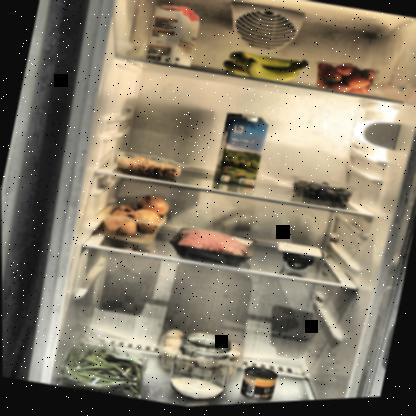banana: (220, 46, 310, 92)
blueberries: (285, 173, 359, 213)
corn: (237, 366, 279, 405)
green_beans: (52, 331, 154, 404)
ground_beef: (166, 222, 258, 274)
milk: (212, 111, 272, 195)
mushrooms: (151, 328, 250, 390)
onion: (94, 186, 172, 252)
shrimp: (112, 151, 180, 185)
strawberries: (311, 58, 379, 103)
